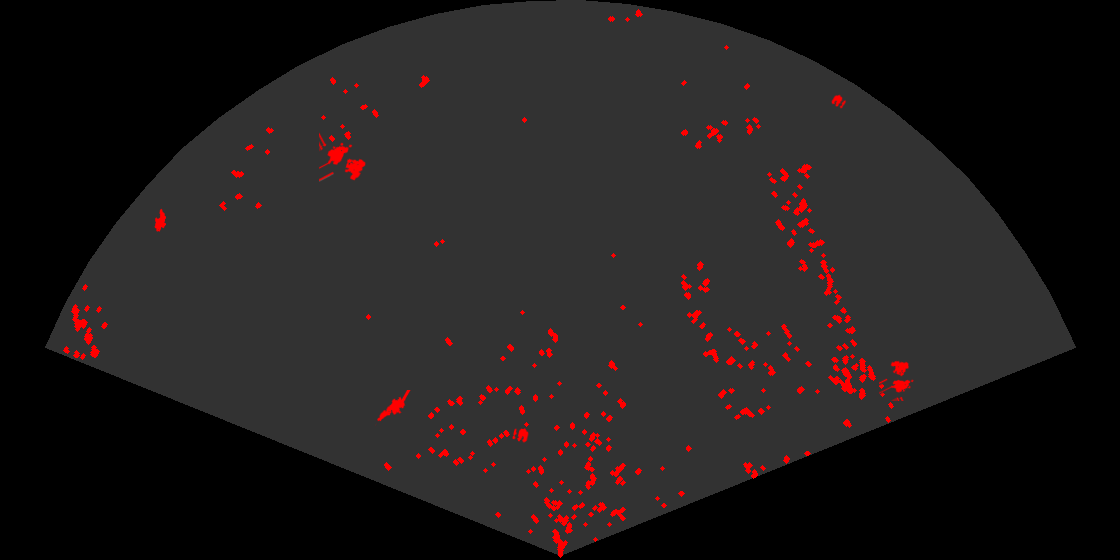AUV: (153, 207, 166, 233)
ball: (511, 427, 530, 444), (830, 93, 848, 110)
cage: (319, 131, 367, 183), (879, 359, 915, 401)
frogman: (375, 390, 411, 427)
